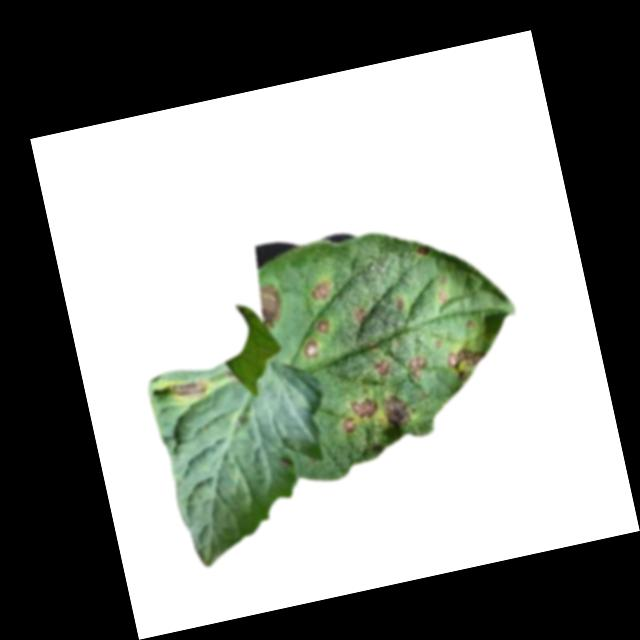Early_blight: (443, 341, 491, 386), (164, 370, 210, 409), (254, 280, 287, 330), (379, 388, 416, 431), (349, 396, 380, 424), (305, 278, 333, 303), (406, 354, 429, 382), (300, 338, 323, 364), (373, 357, 395, 381), (412, 242, 432, 261), (338, 416, 357, 435), (315, 319, 332, 335), (352, 306, 368, 323), (435, 287, 450, 304), (392, 294, 406, 312)
